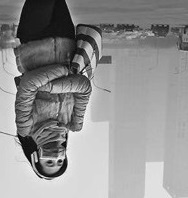person: (15, 3, 99, 181)
